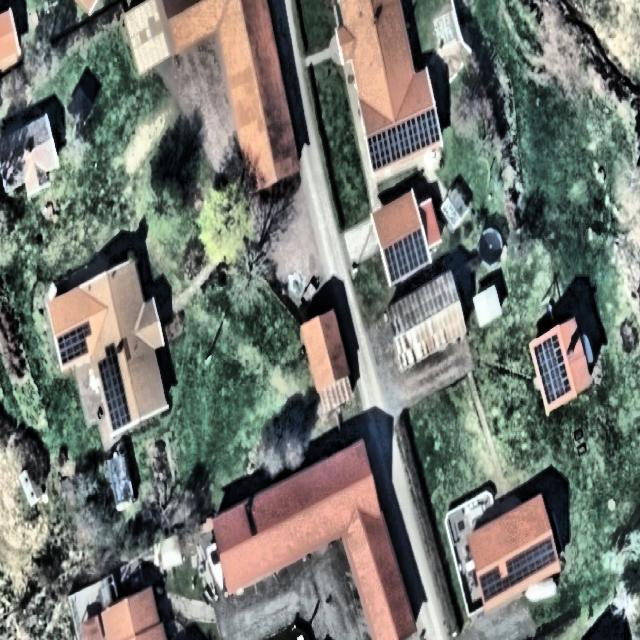roof_pv: (479, 530, 558, 606), (365, 105, 443, 178), (381, 226, 432, 286), (99, 340, 132, 432), (532, 332, 572, 406), (54, 316, 93, 367)
